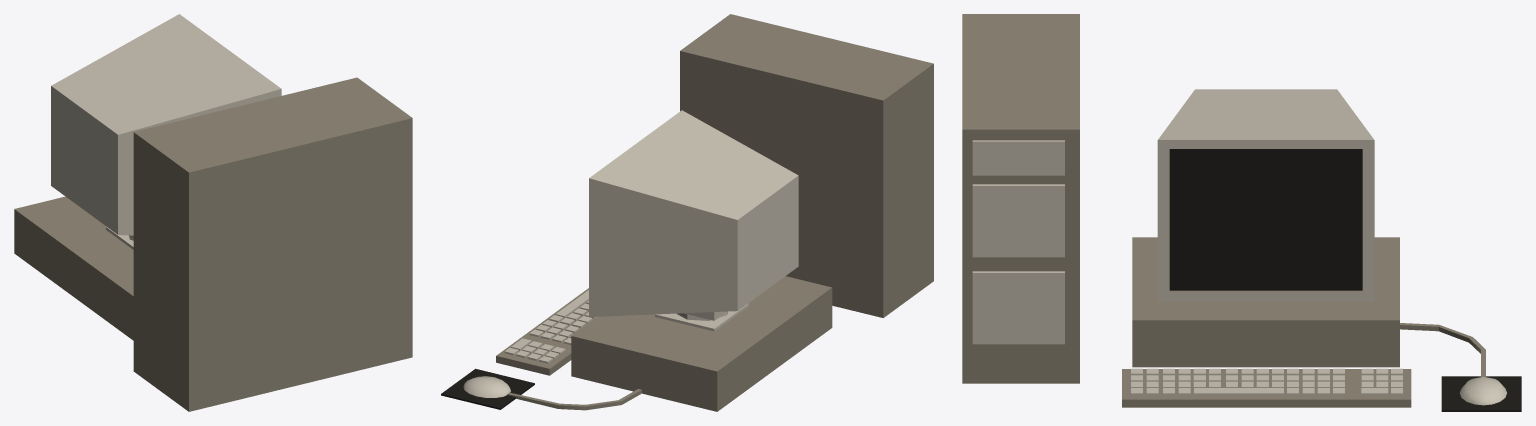
Rendered from Computer.fbx.
3 renders of one model, left to right at view 1: azimuth 30°, elevation 25°; view 2: azimuth 150°, elevation 25°; view 3: azimuth 270°, elevation 25°, orthographic. The views are drawn at different scales.
Parts seen in each view (by area): view 1: pCube80; view 2: pCube80; view 3: pCube80.
Boxes of the visible parts, <box> form: pCube80: <box>14,14,412,411</box>; pCube80: <box>441,14,933,411</box>; pCube80: <box>962,14,1521,411</box>.
Size of the model in its own units: 4.25 by 3.5 by 6.99.
